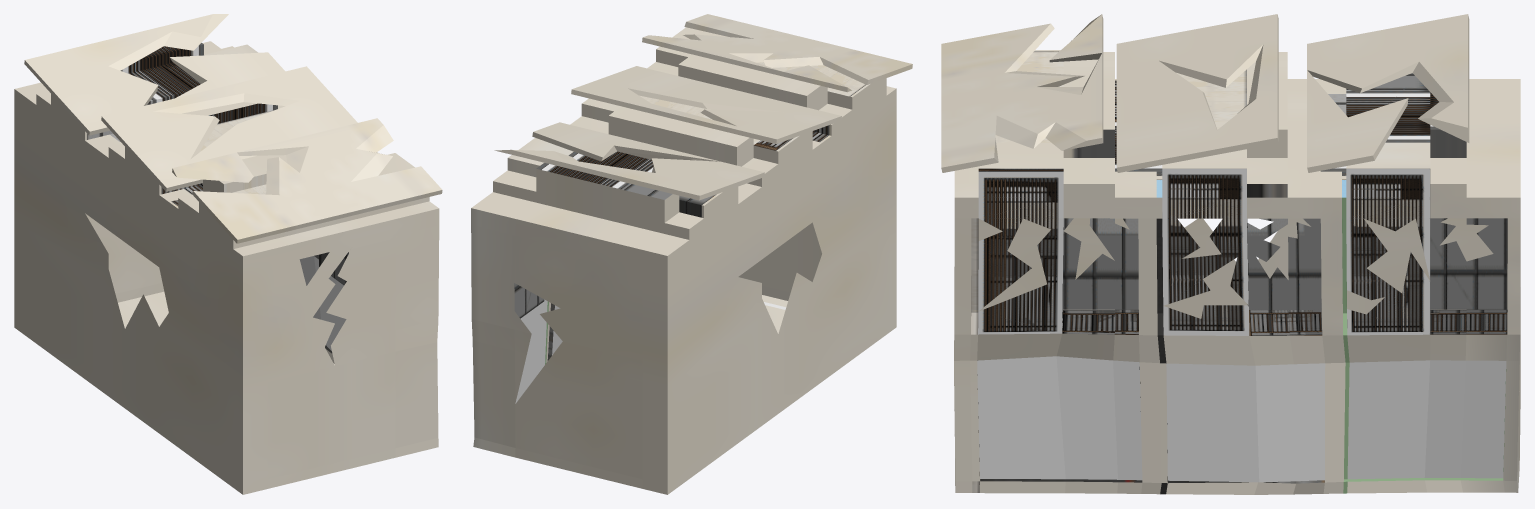
File: ruko.fbx
3 views of the same model, side by side, from view 1: azimuth 30°, elevation 25°; view 2: azimuth 150°, elevation 25°; view 3: azimuth 270°, elevation 25° (orthographic). The views are drawn at different scales.
Visible parts, largest first — view 1: Cube; view 2: Cube; view 3: Cube.
Boxes of the visible parts, bbox=[...] form: Cube: bbox=[14, 14, 442, 494]; Cube: bbox=[471, 14, 912, 494]; Cube: bbox=[941, 14, 1520, 494].
Size of the model in its own units: 180 by 229 by 339.
